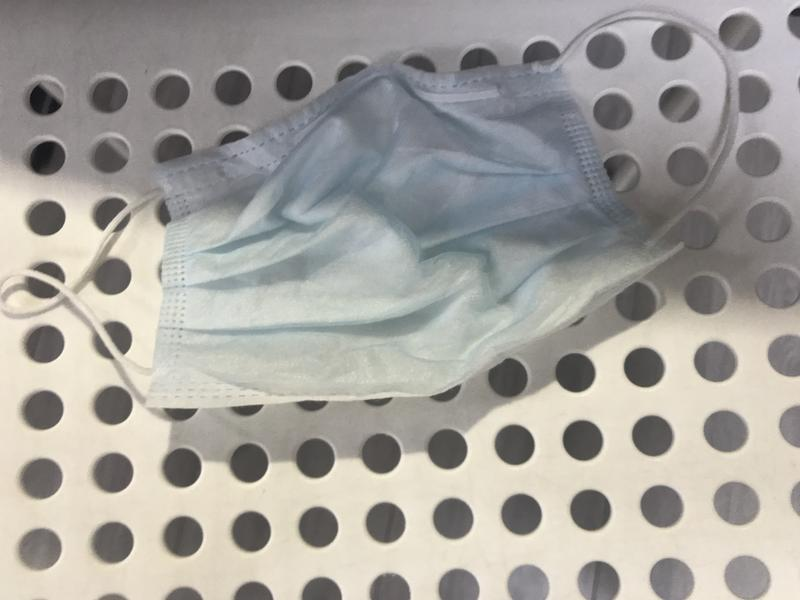medical_mask: (1, 11, 740, 407)
